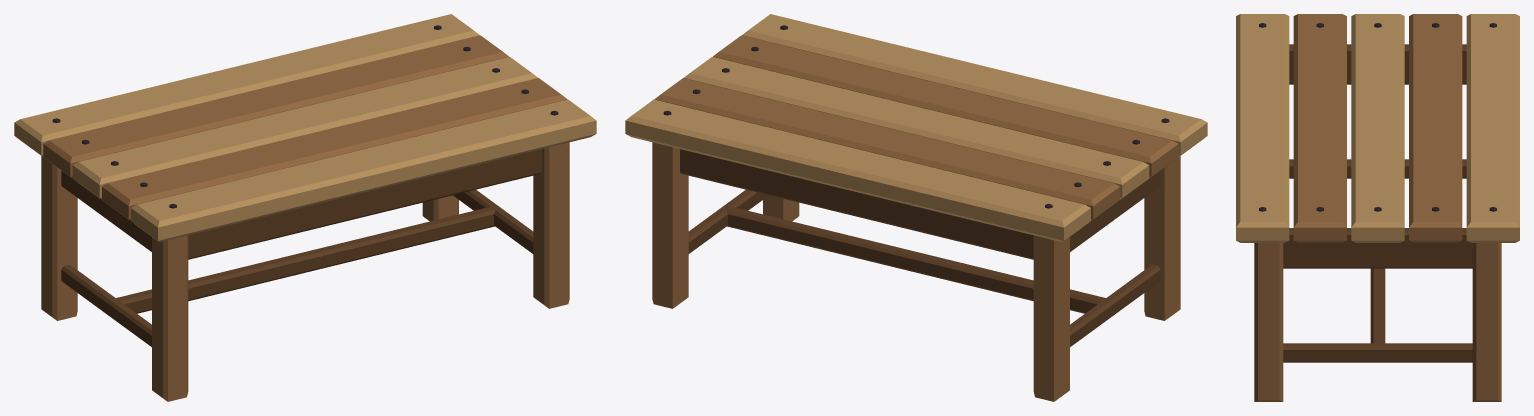
File: Table_10.glb
The picture shows the model from 3 angles, left to right: view 1: azimuth 30°, elevation 25°; view 2: azimuth 150°, elevation 25°; view 3: azimuth 270°, elevation 25°; orthographic projection.
Parts seen in each view (by area): view 1: Table_10; view 2: Table_10; view 3: Table_10.
Part boxes in pixels (x1,y1,x2,y2): Table_10: (14,14,596,401); Table_10: (625,14,1207,401); Table_10: (1236,14,1519,401).
Size of the model in its own units: 6.88 by 2.88 by 3.9.
